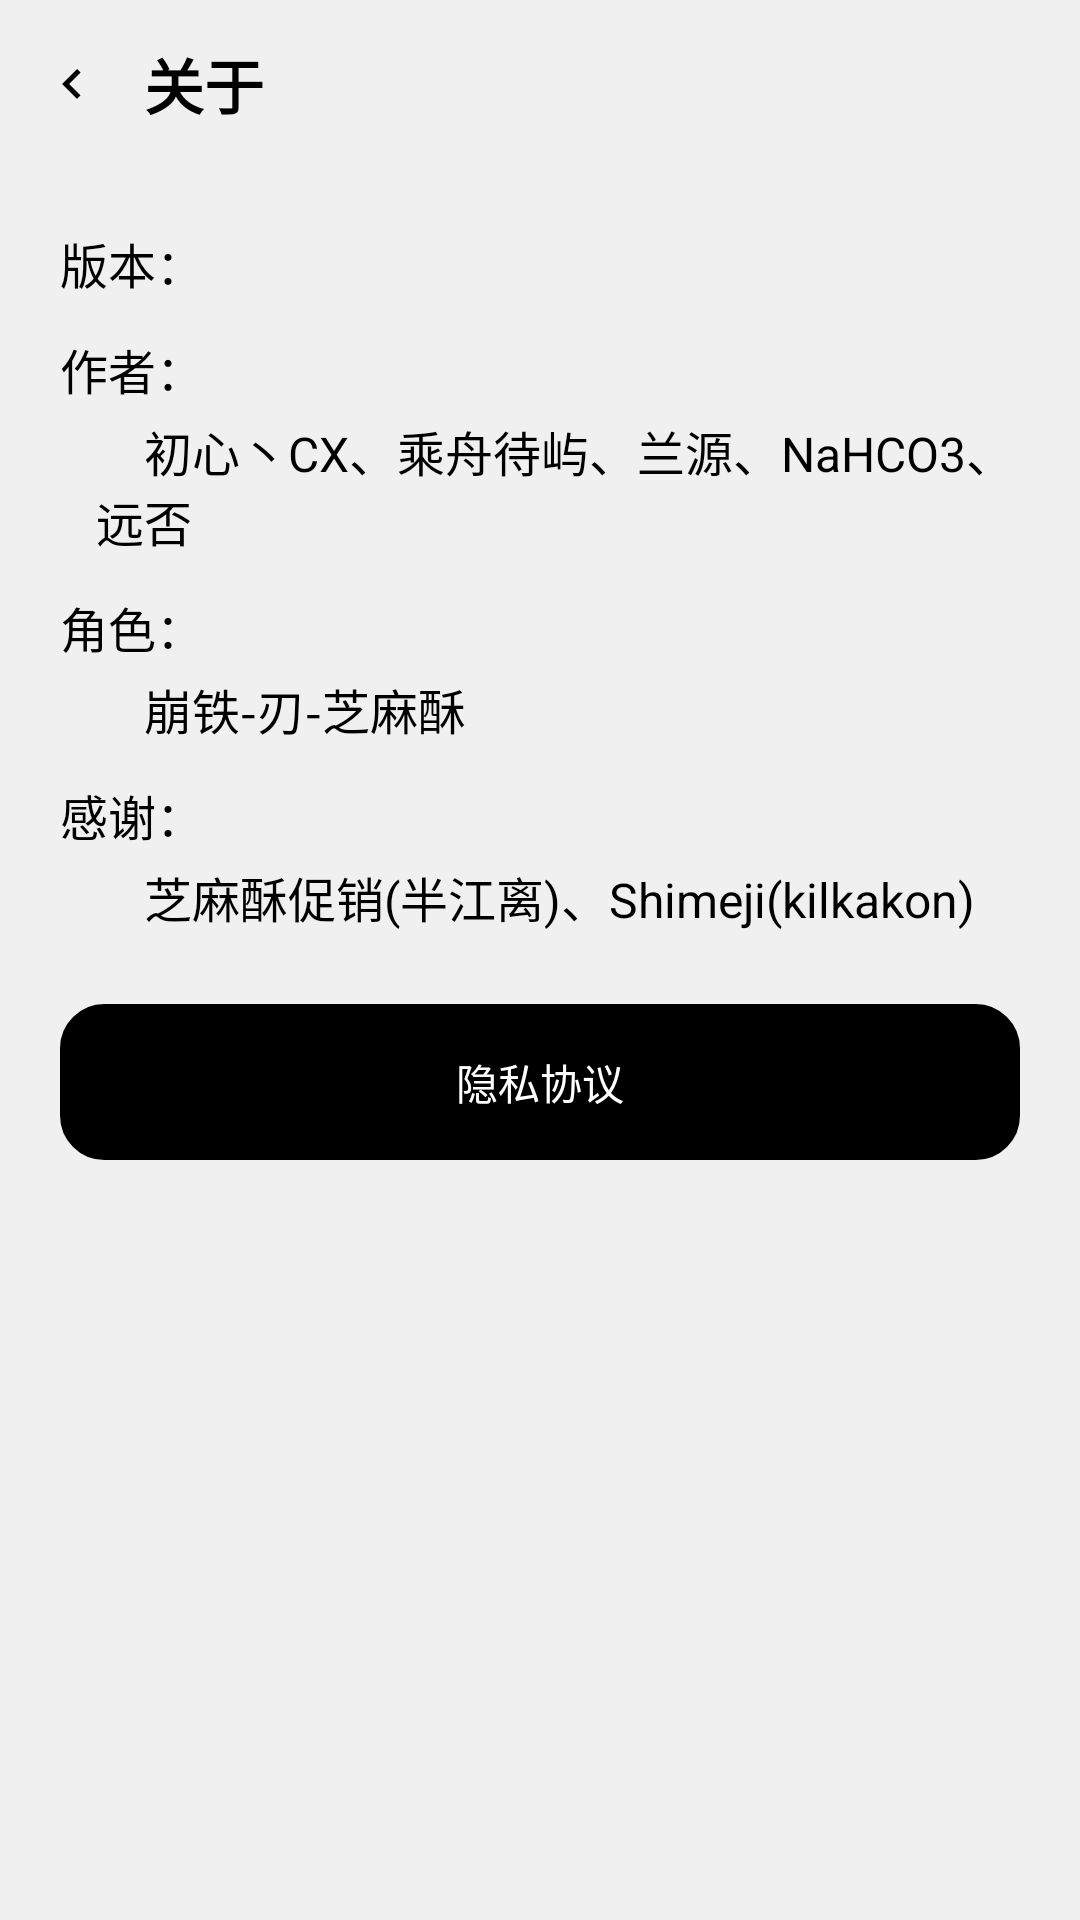

Named icons in this screenshot (1080w x 1920h) and their centers, [x,y]:
返回: [71,84]
